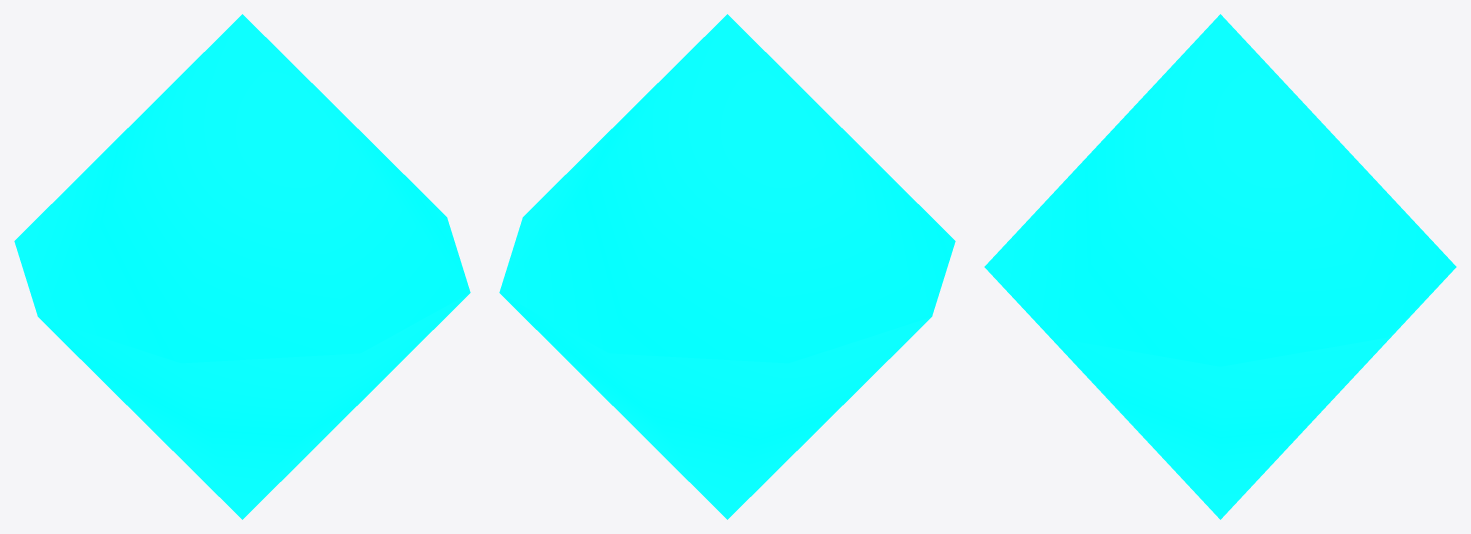
Rendered from SM_Collectible_Core.fbx.
The picture shows the model from 3 angles, left to right: view 1: azimuth 30°, elevation 25°; view 2: azimuth 150°, elevation 25°; view 3: azimuth 270°, elevation 25°; orthographic projection.
Visible parts, largest first — view 1: SM_Collectible_Core; view 2: SM_Collectible_Core; view 3: SM_Collectible_Core.
Part boxes in pixels (left/top/right/bottom): SM_Collectible_Core: left=14, top=14, right=470, bottom=519; SM_Collectible_Core: left=499, top=14, right=955, bottom=519; SM_Collectible_Core: left=984, top=14, right=1456, bottom=519.
Bounding box in the file's own units: 44 × 44 × 52.
